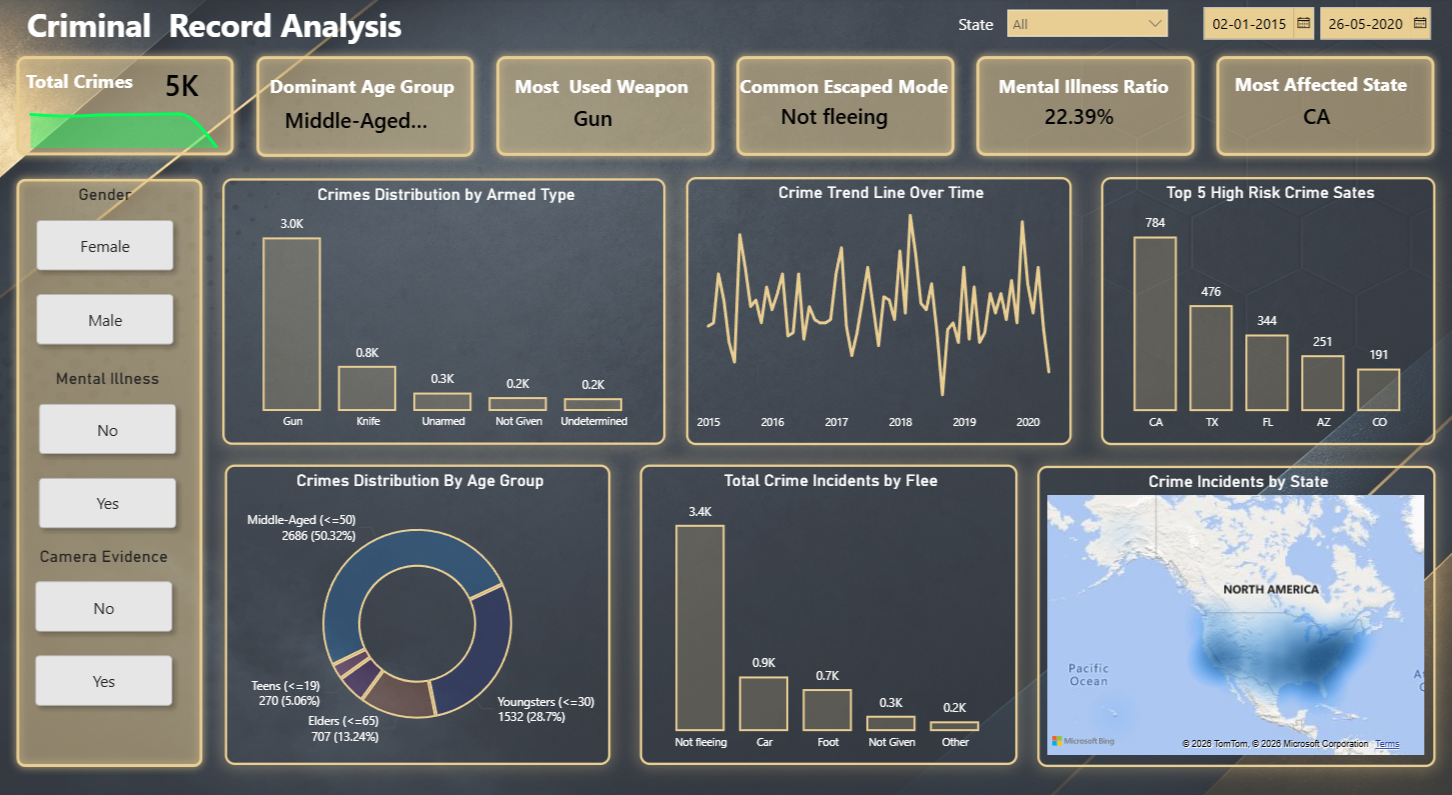

The dashboard page shown, as its layout file describes it:
{"tool":"powerbi","page":{"name":"Page 1","canvas":[1480,820],"ordinal":0},"visuals":[{"type":"shape","box":[254.7,51.9,236.3,118.2],"z":0,"group":"g2"},{"type":"shape","box":[1228.9,52.5,237.1,117.1],"z":0,"group":"g6"},{"type":"shape","box":[11,175.9,204.7,612.8],"z":0},{"type":"textbox","box":[8.9,1.1,431.1,56.4],"z":1000},{"type":"textbox","box":[1250.4,71.5,191,97.6],"z":1000,"group":"g6"},{"type":"group","id":"g1","title":"Group 1","box":[11.8,42.3,316,127.1],"z":2000},{"type":"shape","box":[11.8,52.6,236.3,116.8],"z":2000,"group":"g1"},{"type":"cardVisual","fields":{"Data":["measure.Most Affected State"]},"box":[1235.3,74,207.5,90.7],"z":2000,"group":"g6"},{"type":"group","id":"g2","title":"Group 2","box":[254.7,51.9,236.3,118.2],"z":3000},{"type":"group","id":"g3","title":"Group 3","box":[497.7,52.5,237.1,117.1],"z":4000},{"type":"group","id":"g4","title":"Group 4","box":[741.4,52.5,246,117.1],"z":5000},{"type":"shape","box":[985.1,52.5,237.1,117.1],"z":5000,"group":"g5"},{"type":"shape","box":[741.4,52.5,237.1,117.1],"z":6000,"group":"g4"},{"type":"group","id":"g5","title":"Group 5","box":[985.1,52.5,263.8,117.1],"z":6000},{"type":"shape","box":[497.7,52.5,237.1,117.1],"z":7000,"group":"g3"},{"type":"group","id":"g6","title":"Group 6","box":[1228.9,52.5,237.1,117.1],"z":7000},{"type":"textbox","box":[270.6,72.8,202,48.1],"z":8000,"group":"g2"},{"type":"lineChart","fields":{"Y":["measure.Total Crime Incidents"],"Category":["Dataset.Date.Variation.Date Hierarchy.Year"]},"box":[19.2,94.5,218.5,64.6],"z":8000,"group":"g1"},{"type":"clusteredColumnChart","title":"Crimes Distribution by Armed Type ","fields":{"Category":["Dataset.Armed"],"Y":["measure.Total Crime Incidents"]},"box":[228.1,184.1,449.8,270.7],"z":8000},{"type":"donutChart","title":"Crimes Distribution By Age Group","fields":{"Category":["Dataset.Age Group"],"Y":["measure.Total Crime Incidents"]},"box":[230.8,474,391.6,305],"z":9000},{"type":"cardVisual","fields":{"Data":["measure.Dominant Age Group"]},"box":[261.8,77.7,207.5,90.7],"z":10000,"group":"g2"},{"type":"clusteredColumnChart","title":"Top 5 High Risk Crime Sates","fields":{"Y":["measure.Total Crime Incidents"],"Category":["Dataset.State"]},"box":[1119.8,182.7,339.4,272.1],"z":10000},{"type":"cardVisual","fields":{"Data":["measure.Total Crime Incidents"]},"box":[141,42.3,186.9,90.7],"z":11000,"group":"g1"},{"type":"textbox","box":[519.4,72.9,202,48.1],"z":11000,"group":"g3"},{"type":"lineChart","title":"Crime Trend Line Over Time","fields":{"Y":["CountNonNull(Dataset.Id)"],"Category":["Dataset.Date.Variation.Date Hierarchy.Year","Dataset.Date.Variation.Date Hierarchy.Month"]},"box":[698,182.7,391.6,272.1],"z":11000},{"type":"cardVisual","fields":{"Data":["measure.Most Used Weapon"]},"box":[500.2,76.2,207.5,90.7],"z":12000,"group":"g3"},{"type":"clusteredColumnChart","fields":{"Y":["measure.Total Crime Incidents"],"Category":["Dataset.Flee"]},"box":[651.3,474,383.3,305],"z":12000},{"type":"textbox","box":[970,11,55,38.5],"z":13000},{"type":"textbox","box":[24.2,67.6,202,38.5],"z":13000,"group":"g1"},{"type":"textbox","box":[748.3,72.3,239.1,48.1],"z":13000,"group":"g4"},{"type":"advancedSlicerVisual","fields":{"Values":["Dataset.Gender"]},"box":[23.4,189.6,173.1,180.5],"z":13000},{"type":"cardVisual","fields":{"Data":["measure.Common Escaped Mode"]},"box":[745.8,74.2,207.5,90.7],"z":14000,"group":"g4"},{"type":"map","title":"Crime Incidents by State","fields":{"Category":["Dataset.State"],"Size":["measure.Total Crime Incidents"]},"box":[1055.2,474.9,404,305.6],"z":14000},{"type":"slicer","fields":{"Values":["Dataset.Date"]},"box":[1210.8,0,259.7,70.1],"z":15000},{"type":"textbox","box":[1009.9,72.3,239.1,48.1],"z":16000,"group":"g5"},{"type":"advancedSlicerVisual","title":"Mental Illness","fields":{"Values":["Dataset.Signs Of Mental Illness"]},"box":[25.3,376.5,173.1,180],"z":16000},{"type":"slicer","fields":{"Values":["Dataset.State"]},"box":[1014,2.7,182.7,59.1],"z":16001},{"type":"advancedSlicerVisual","title":"Camera Evidence","fields":{"Values":["Dataset.Body Camera"]},"box":[21.4,557,173.1,180],"z":16002},{"type":"cardVisual","fields":{"Data":["measure.Mental Illness Cases Ratio"]},"box":[994.2,74,207.5,90.7],"z":17001,"group":"g5"}]}

Visuals, with their boxes in screenshot pixels (x1, y1, x2, y2), scaled from the page's 1480x820 canvas onto the 1452x795 screenshot:
shape: [left=250, top=50, right=482, bottom=165]
shape: [left=1206, top=51, right=1438, bottom=164]
shape: [left=11, top=171, right=212, bottom=765]
textbox: [left=9, top=1, right=432, bottom=56]
textbox: [left=1227, top=69, right=1414, bottom=164]
"Group 1" group: [left=12, top=41, right=322, bottom=164]
shape: [left=12, top=51, right=243, bottom=164]
cardVisual - measure.Most Affected State: [left=1212, top=72, right=1416, bottom=160]
"Group 2" group: [left=250, top=50, right=482, bottom=165]
"Group 3" group: [left=488, top=51, right=721, bottom=164]
"Group 4" group: [left=727, top=51, right=969, bottom=164]
shape: [left=966, top=51, right=1199, bottom=164]
shape: [left=727, top=51, right=960, bottom=164]
"Group 5" group: [left=966, top=51, right=1225, bottom=164]
shape: [left=488, top=51, right=721, bottom=164]
"Group 6" group: [left=1206, top=51, right=1438, bottom=164]
textbox: [left=265, top=71, right=464, bottom=117]
lineChart - measure.Total Crime Incidents x Dataset.Date.Variation.Date Hierarchy.Year: [left=19, top=92, right=233, bottom=154]
"Crimes Distribution by Armed Type " clusteredColumnChart: [left=224, top=178, right=665, bottom=441]
"Crimes Distribution By Age Group" donutChart: [left=226, top=460, right=611, bottom=755]
cardVisual - measure.Dominant Age Group: [left=257, top=75, right=460, bottom=163]
"Top 5 High Risk Crime Sates" clusteredColumnChart: [left=1099, top=177, right=1432, bottom=441]
cardVisual - measure.Total Crime Incidents: [left=138, top=41, right=322, bottom=129]
textbox: [left=510, top=71, right=708, bottom=117]
"Crime Trend Line Over Time" lineChart: [left=685, top=177, right=1069, bottom=441]
cardVisual - measure.Most Used Weapon: [left=491, top=74, right=694, bottom=162]
clusteredColumnChart - measure.Total Crime Incidents x Dataset.Flee: [left=639, top=460, right=1015, bottom=755]
textbox: [left=952, top=11, right=1006, bottom=48]
textbox: [left=24, top=66, right=222, bottom=103]
textbox: [left=734, top=70, right=969, bottom=117]
advancedSlicerVisual - Dataset.Gender: [left=23, top=184, right=193, bottom=359]
cardVisual - measure.Common Escaped Mode: [left=732, top=72, right=935, bottom=160]
"Crime Incidents by State" map: [left=1035, top=460, right=1432, bottom=757]
slicer - Dataset.Date: [left=1188, top=0, right=1443, bottom=68]
textbox: [left=991, top=70, right=1225, bottom=117]
"Mental Illness" advancedSlicerVisual: [left=25, top=365, right=195, bottom=540]
slicer - Dataset.State: [left=995, top=3, right=1174, bottom=60]
"Camera Evidence" advancedSlicerVisual: [left=21, top=540, right=191, bottom=715]
cardVisual - measure.Mental Illness Cases Ratio: [left=975, top=72, right=1179, bottom=160]
